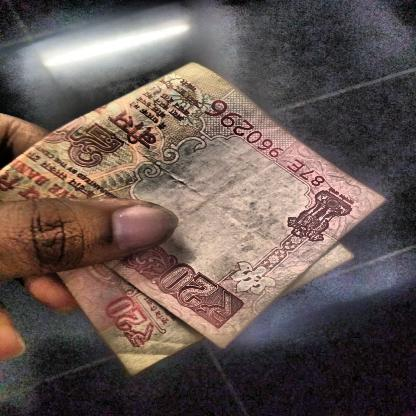Rs20: (146, 254, 258, 336), (97, 286, 177, 357)
